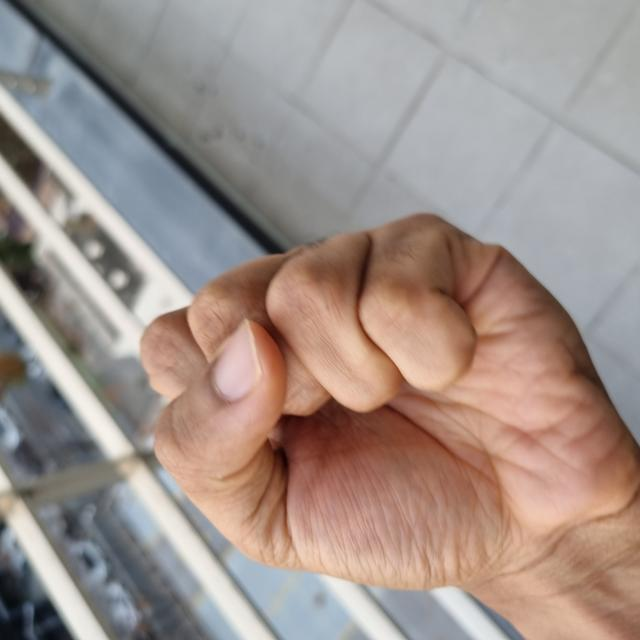Rock: (1, 142, 423, 639)
